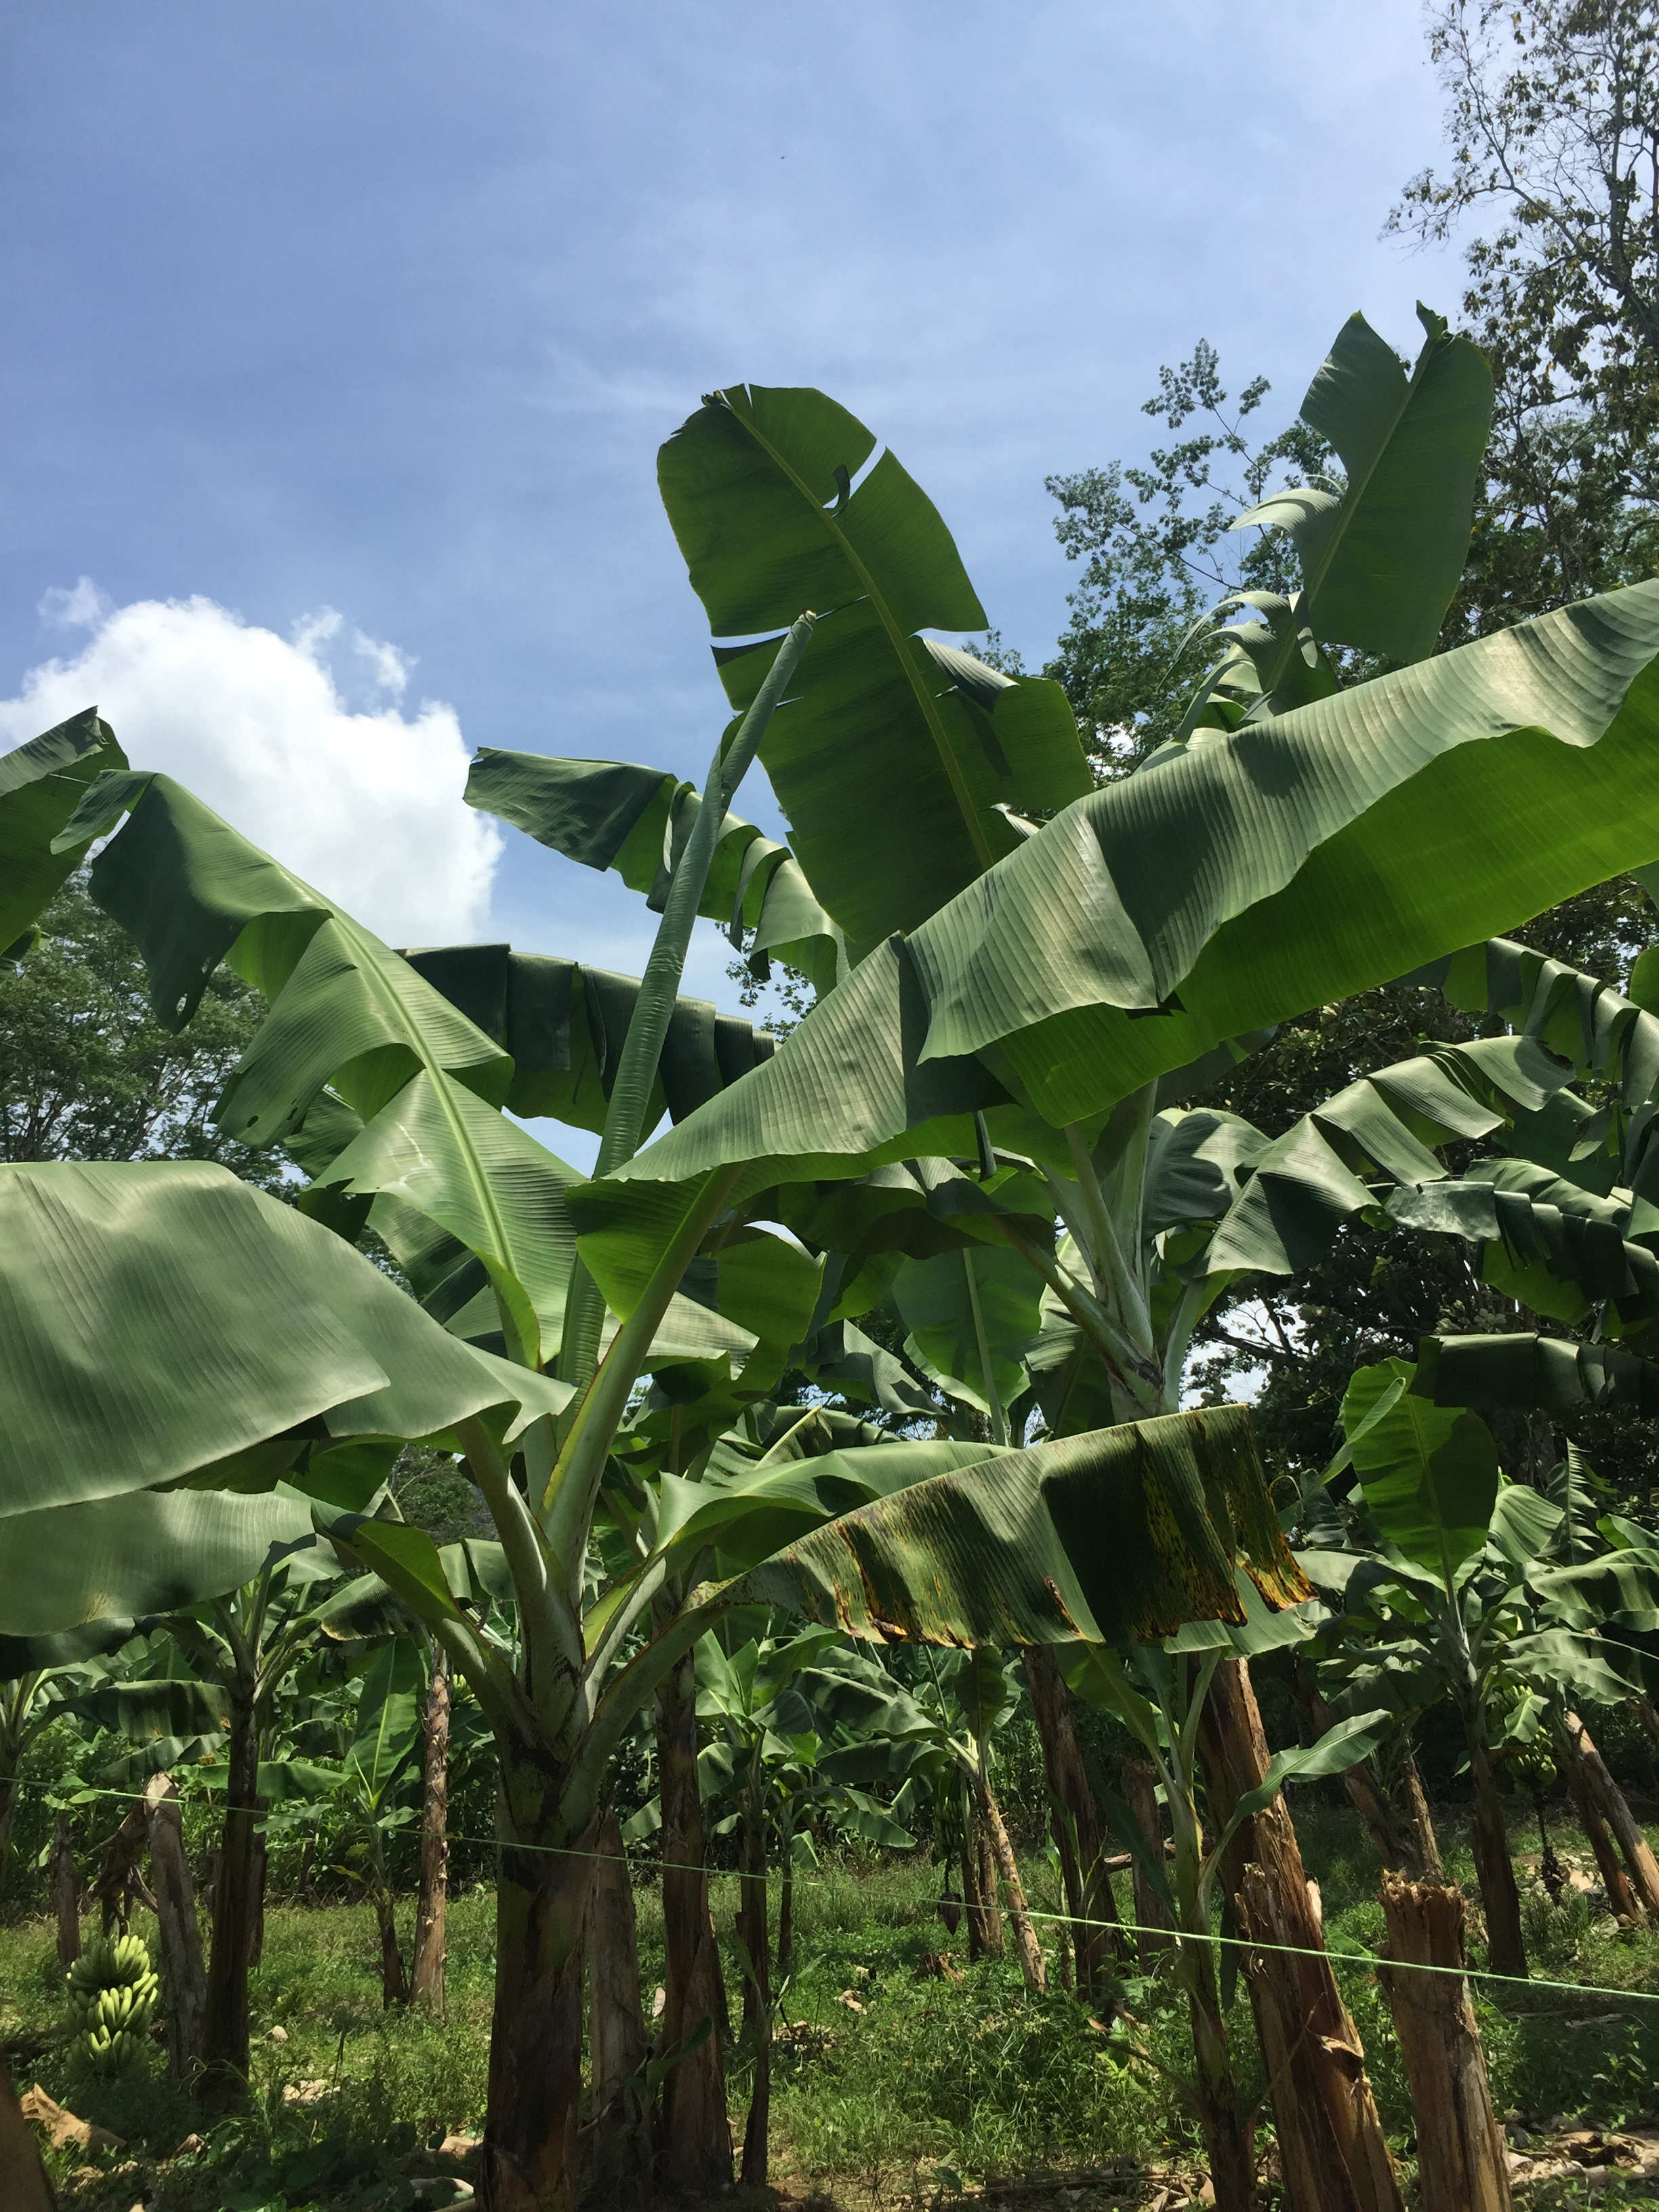candleleafs: (558, 613, 823, 1461)
